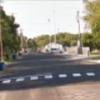crosswalks: (2, 70, 96, 84)
